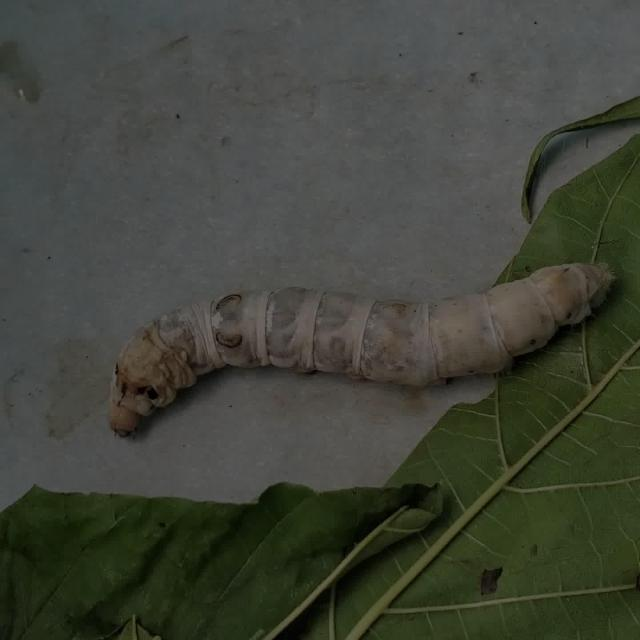Grasserie: (101, 228, 621, 447)
